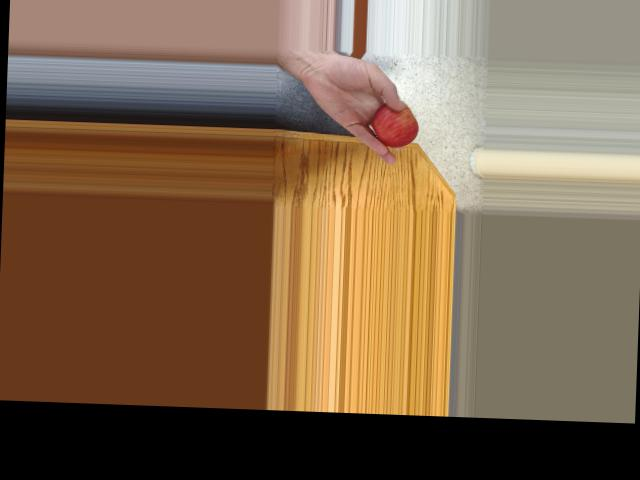apple: (366, 97, 420, 147)
